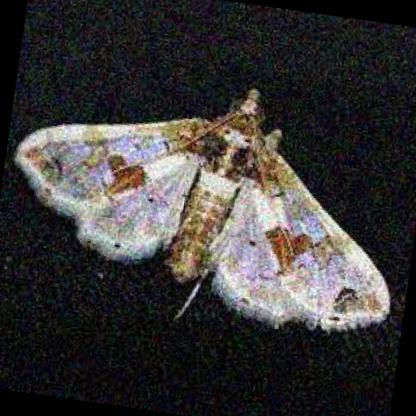leucinodes: (15, 94, 389, 333)
